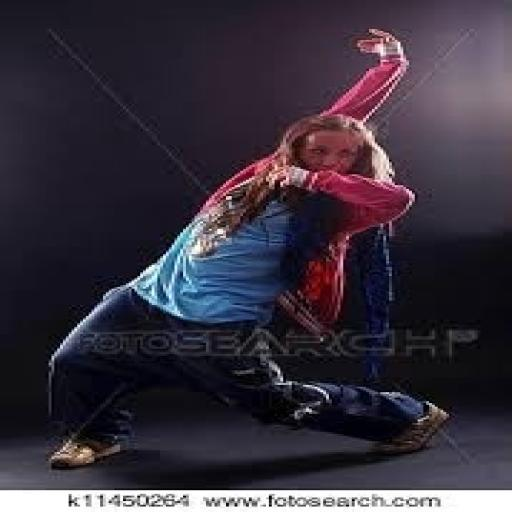dancing: (40, 26, 452, 470)
